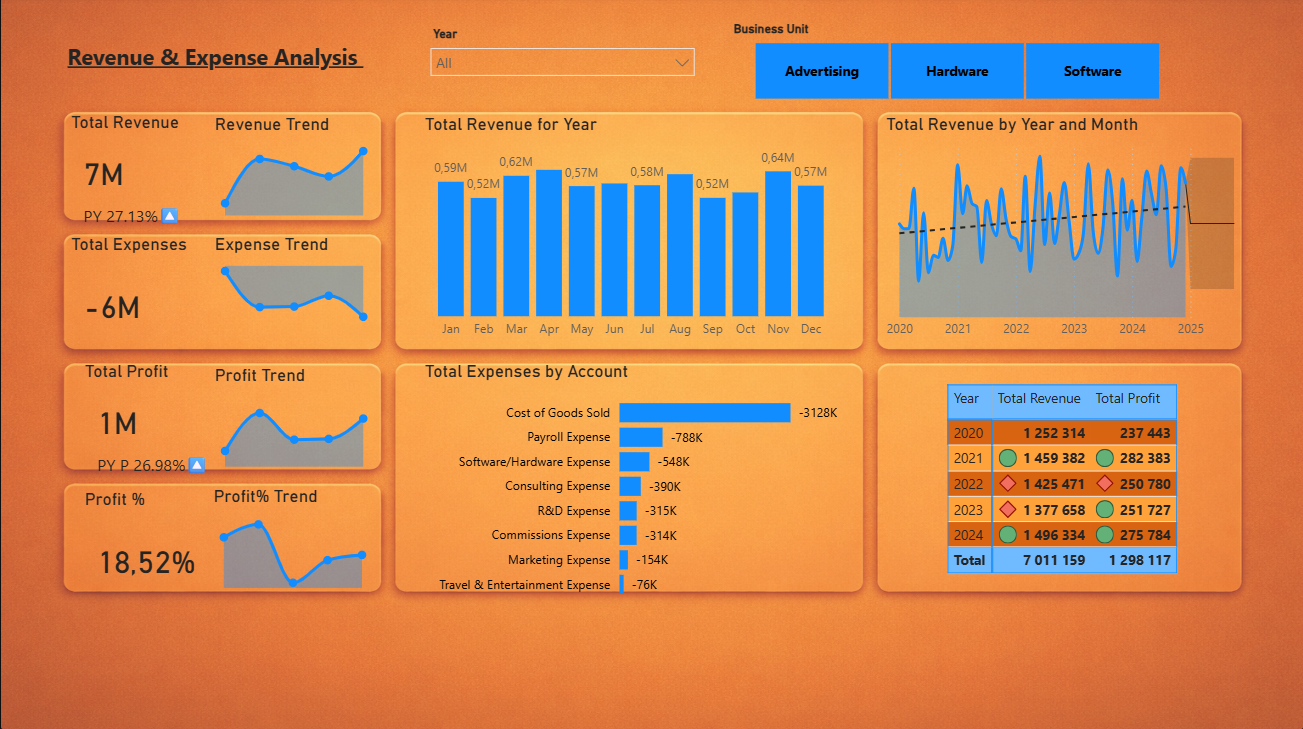

The dashboard page shown, as its layout file describes it:
{"tool":"powerbi","page":{"name":"Page 1","canvas":[1280,720],"ordinal":0},"visuals":[{"type":"cardVisual","title":"Total Revenue","fields":{"Data":["All Measure.Total Revenue"]},"box":[65,112.9,306.8,119],"z":0},{"type":"cardVisual","title":"Total Expenses","fields":{"Data":["All Measure.Total Expenses"]},"box":[65,231.9,279.8,119],"z":1000},{"type":"cardVisual","title":"Total Profit","fields":{"Data":["All Measure.Total Profit"]},"box":[66.3,350.9,279.8,119],"z":2000},{"type":"cardVisual","title":"Profit %","fields":{"Data":["All Measure.Profit %"]},"box":[65,484.7,279.8,119],"z":3000},{"type":"lineChart","title":"Revenue Trend","fields":{"Y":["All Measure.Total Revenue"],"Category":["Calendar.Date.Variation.Date Hierarchy.Year"]},"box":[206.1,114.1,165.6,105.5],"z":4000},{"type":"lineChart","title":"Expense Trend","fields":{"Category":["Calendar.Date.Variation.Date Hierarchy.Year"],"Y":["All Measure.Total Expenses"]},"box":[206.1,231.9,165.6,105.5],"z":5000},{"type":"lineChart","title":"Profit Trend","fields":{"Category":["Calendar.Date.Variation.Date Hierarchy.Year"],"Y":["All Measure.Total Profit"]},"box":[206.1,360.7,165.6,105.5],"z":6000},{"type":"lineChart","title":"Profit% Trend","fields":{"Category":["Calendar.Date.Variation.Date Hierarchy.Year"],"Y":["All Measure.Profit %"]},"box":[204.9,479.8,165.6,105.5],"z":7000},{"type":"slicer","title":"Business Unit","fields":{"Values":["Data.Businees Unit"]},"box":[715.3,24.5,446.6,82.2],"z":8000},{"type":"clusteredColumnChart","fields":{"Y":["All Measure.Total Revenue"],"Category":["Calendar.MonthName"]},"box":[412.3,114.1,414.7,229.4],"z":9000},{"type":"slicer","fields":{"Values":["Calendar.Date.Variation.Date Hierarchy.Year"]},"box":[412.3,24.5,279.8,110.4],"z":10000},{"type":"lineChart","fields":{"Y":["All Measure.Total Revenue"],"Category":["Calendar.Date.Variation.Date Hierarchy.Year","Calendar.Date.Variation.Date Hierarchy.Month"]},"box":[865,114.1,364.4,229.4],"z":11000},{"type":"clusteredBarChart","fields":{"Y":["All Measure.Total Expenses"],"Category":["Data.Account"]},"box":[412.3,357.1,414.7,244.2],"z":12000},{"type":"pivotTable","fields":{"Rows":["Calendar.Date.Variation.Date Hierarchy.Year"],"Values":["All Measure.Total Revenue","All Measure.Total Profit"]},"box":[925.2,375.5,355.8,326.4],"z":13000},{"type":"textbox","box":[61.4,20.9,381.6,400],"z":14000},{"type":"image","box":[1170.6,18.4,96.9,88.3],"z":15000}]}

Visuals, with their boxes in screenshot pixels (x1, y1, x2, y2), scaled from the page's 1280x720 canvas onto the 1303x729 screenshot:
"Total Revenue" cardVisual: l=66, t=114, r=378, b=235
"Total Expenses" cardVisual: l=66, t=235, r=351, b=355
"Total Profit" cardVisual: l=67, t=355, r=352, b=476
"Profit %" cardVisual: l=66, t=491, r=351, b=611
"Revenue Trend" lineChart: l=210, t=116, r=378, b=222
"Expense Trend" lineChart: l=210, t=235, r=378, b=342
"Profit Trend" lineChart: l=210, t=365, r=378, b=472
"Profit% Trend" lineChart: l=209, t=486, r=377, b=593
"Business Unit" slicer: l=728, t=25, r=1183, b=108
clusteredColumnChart - All Measure.Total Revenue x Calendar.MonthName: l=420, t=116, r=842, b=348
slicer - Calendar.Date.Variation.Date Hierarchy.Year: l=420, t=25, r=705, b=137
lineChart - All Measure.Total Revenue x Calendar.Date.Variation.Date Hierarchy.Year: l=881, t=116, r=1251, b=348
clusteredBarChart - All Measure.Total Expenses x Data.Account: l=420, t=362, r=842, b=609
pivotTable - Calendar.Date.Variation.Date Hierarchy.Year x All Measure.Total Revenue: l=942, t=380, r=1302, b=711
textbox: l=63, t=21, r=451, b=426
image: l=1192, t=19, r=1290, b=108
